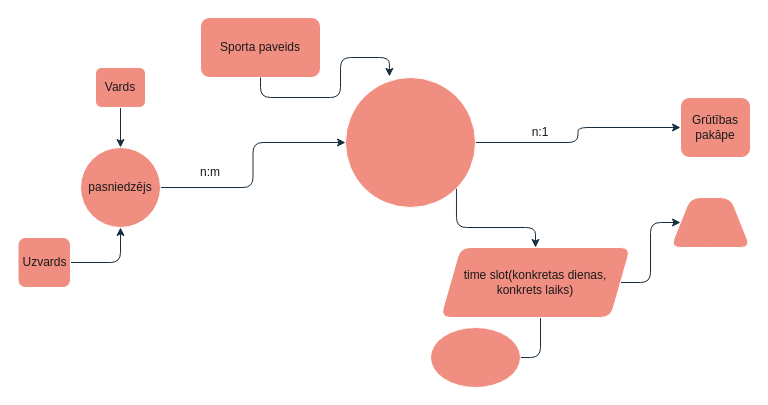
Image size: 768x405. Some labels were removed from this diagram. Each missing label, with the centre of its shape:
"Grafiks" goes at (475,357).
"Nodarbība" goes at (410,142).
"zales nr" goes at (710,222).
